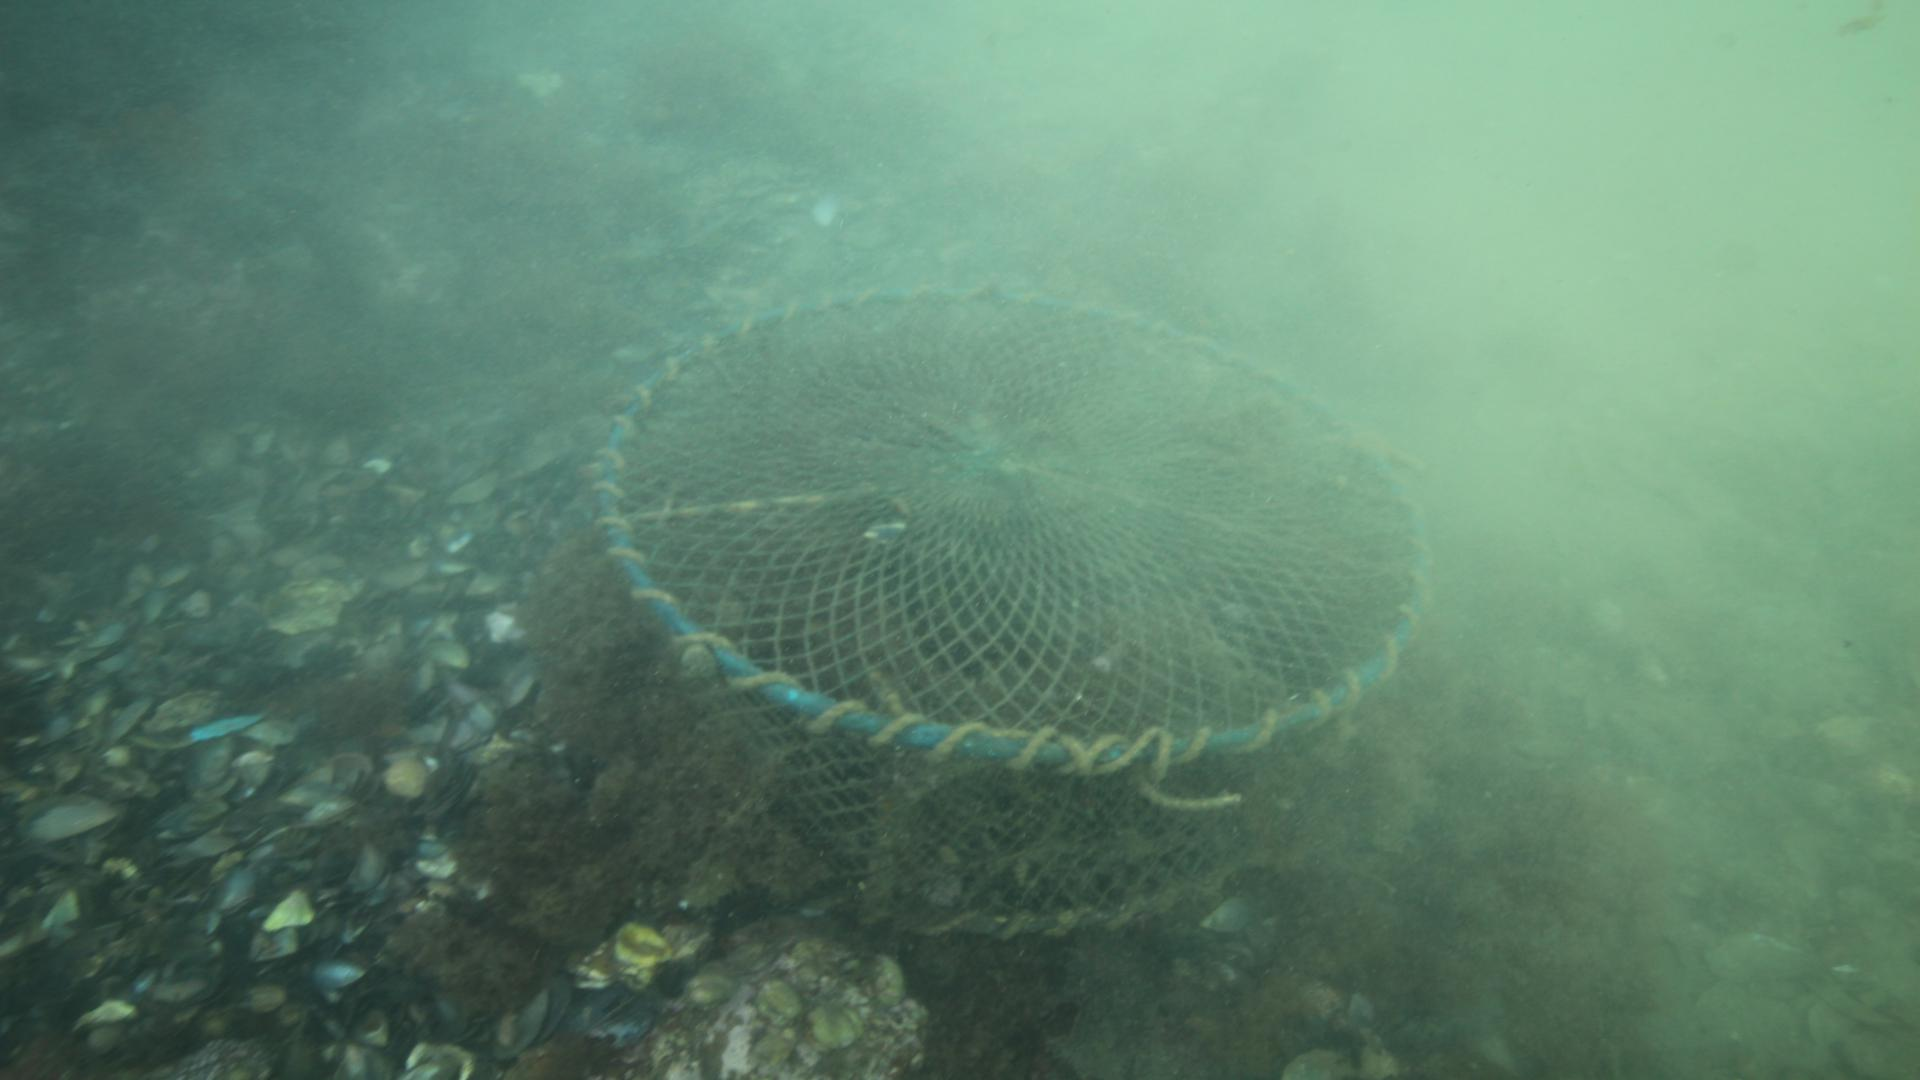circular fish trap: (588, 281, 1429, 940)
